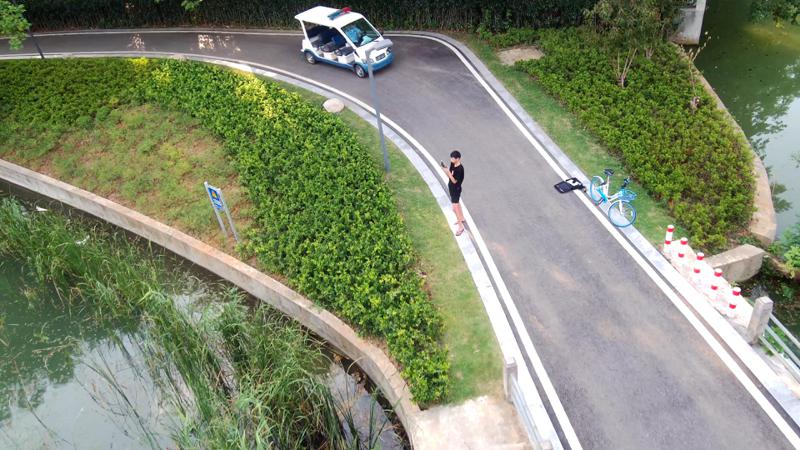passerby: (440, 149, 467, 237)
